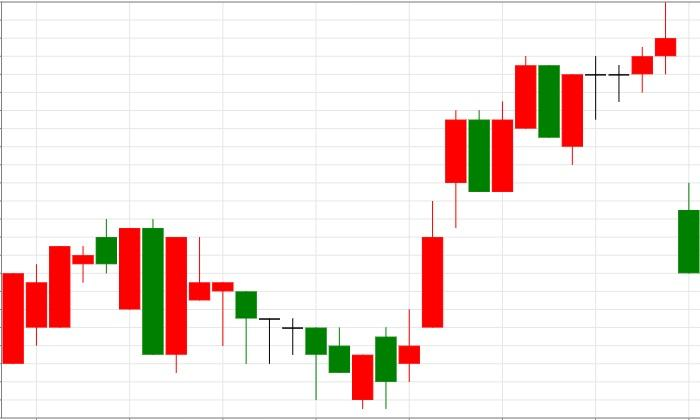hammer_rise: (212, 282, 326, 401)
